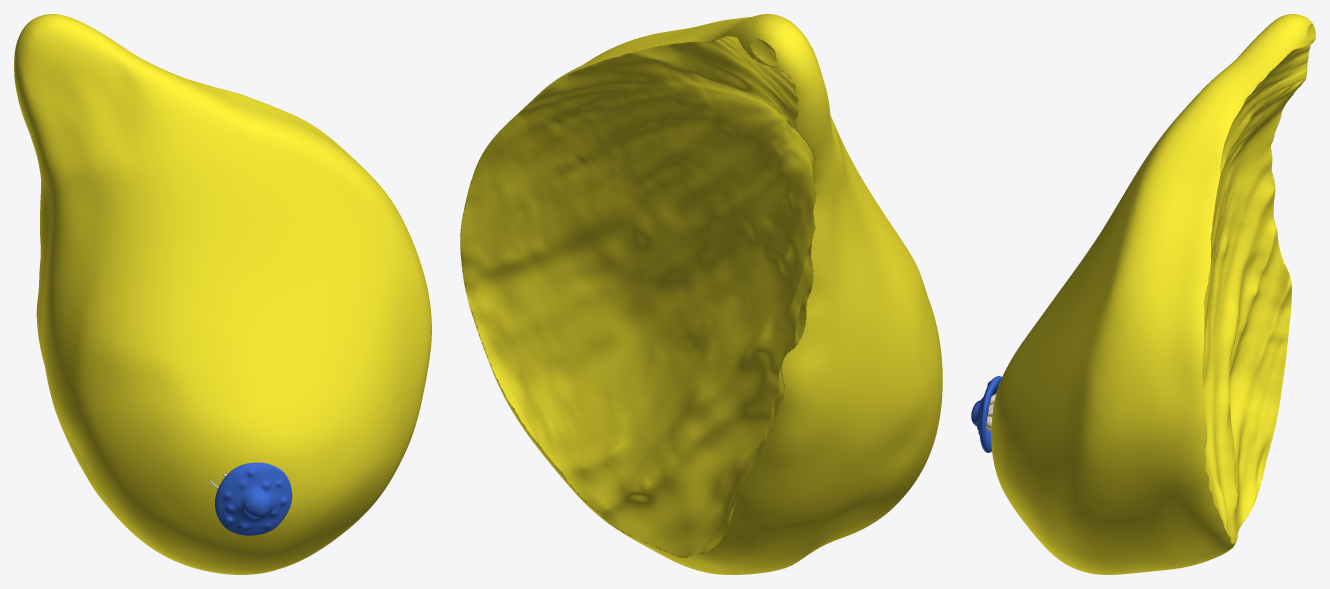
Rendered from hra-mammary-right-female.glb.
The picture shows the model from 3 angles, left to right: view 1: azimuth 30°, elevation 25°; view 2: azimuth 150°, elevation 25°; view 3: azimuth 270°, elevation 25°; orthographic projection. The views are drawn at different scales.
Parts seen in each view (by area): view 1: VH_F_fat_R, VH_F_areola_R, VH_F_nipple_R, VH_F_areolar_tubercles_R; view 2: VH_F_fat_R; view 3: VH_F_fat_R, VH_F_areola_R.
Boxes of the visible parts, box(x1,y1,x2,y2) form: VH_F_fat_R: box(14, 14, 431, 574); VH_F_areola_R: box(215, 462, 292, 535); VH_F_nipple_R: box(241, 491, 271, 519); VH_F_areolar_tubercles_R: box(223, 468, 286, 530); VH_F_fat_R: box(460, 14, 942, 574); VH_F_fat_R: box(991, 14, 1315, 574); VH_F_areola_R: box(976, 376, 1001, 452).
Size of the model in its own units: 0.1283 by 0.18 by 0.1132.
